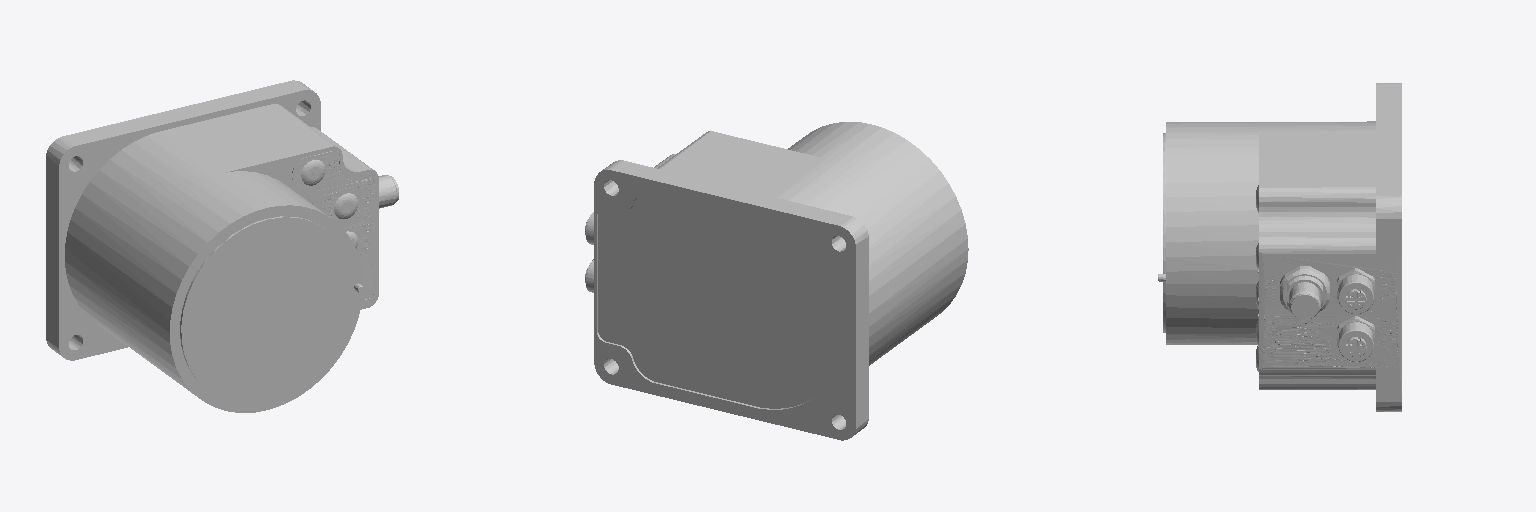
The picture shows the model from 3 angles: view 1: azimuth 30°, elevation 25°; view 2: azimuth 150°, elevation 25°; view 3: azimuth 270°, elevation 25°; orthographic projection.
Parts seen in each view (by area): view 1: Base; view 2: Base; view 3: Base.
Boxes of the visible parts, box(x1,y1,x2,y2) form: Base: box(46, 80, 398, 412); Base: box(585, 122, 968, 440); Base: box(1158, 83, 1401, 411).
Size of the model in its own units: 13.1 by 9 by 9.3.